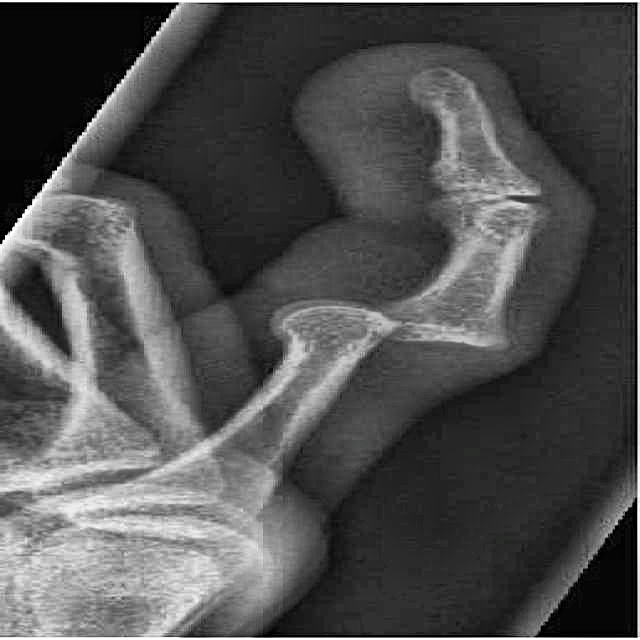Transverse: (223, 290, 540, 375)
